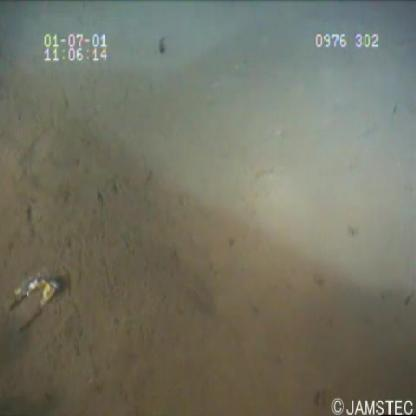Rác: (2, 258, 68, 348)
